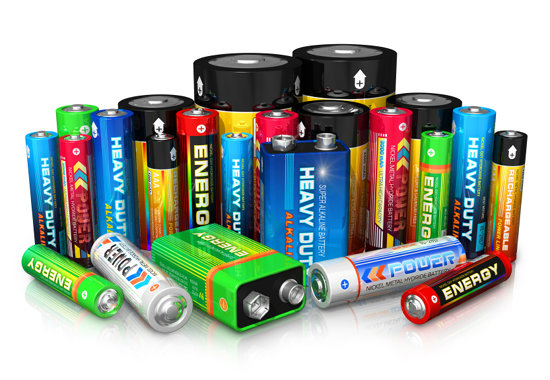Battery: (148, 220, 308, 337), (307, 233, 469, 311), (258, 131, 353, 260), (88, 229, 195, 336), (399, 248, 517, 327), (18, 242, 126, 321), (89, 107, 140, 250), (449, 104, 497, 255), (367, 103, 413, 245), (486, 128, 530, 264), (173, 106, 221, 229), (58, 132, 98, 268), (24, 128, 64, 256), (219, 127, 256, 240), (415, 126, 451, 240), (145, 131, 183, 237)
